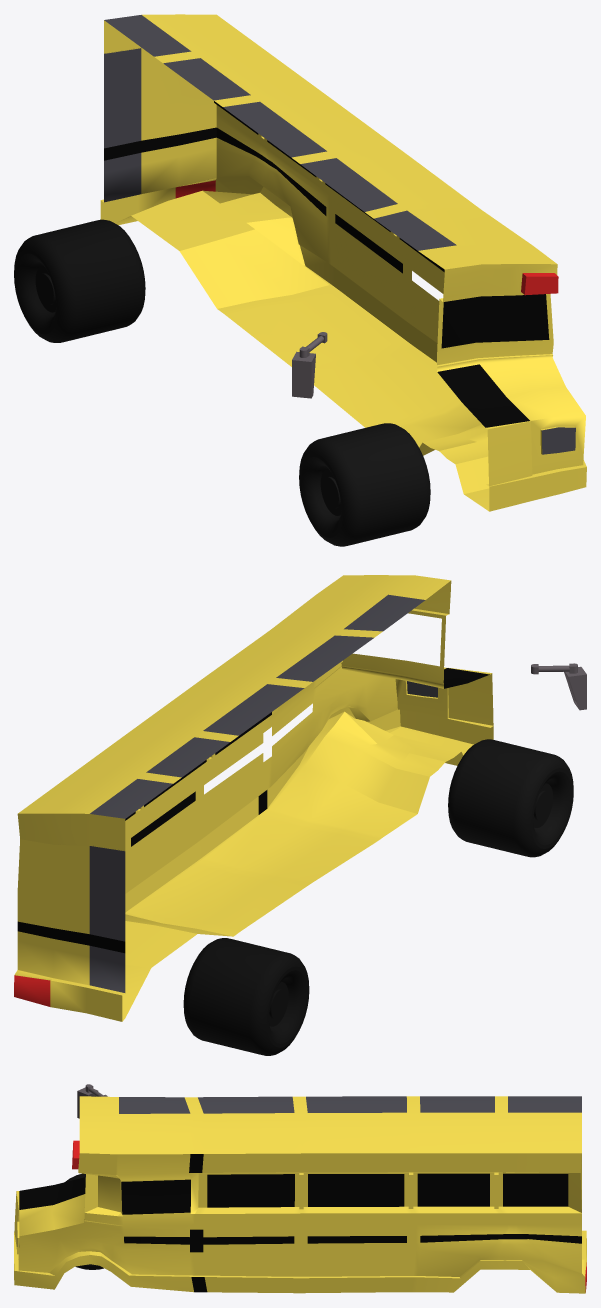
Rendered from BUS.gltf.
3 views of the same model, one above another, from view 1: azimuth 30°, elevation 25°; view 2: azimuth 150°, elevation 25°; view 3: azimuth 270°, elevation 25° (orthographic). The views are drawn at different scales.
Visible parts, largest first — view 1: Cube, front tires, back tires, Mirror_001; view 2: Cube, front tires, back tires, Mirror_001; view 3: Cube, Mirror_001.
Boxes of the visible parts, x1,y1,x2,y2 form: Cube: (100,14,586,511); front tires: (299,423,430,546); back tires: (14,219,145,342); Mirror_001: (292,332,327,398); Cube: (14,575,493,1021); front tires: (448,739,573,857); back tires: (183,938,309,1055); Mirror_001: (531,663,586,710); Cube: (14,1096,586,1293); Mirror_001: (77,1084,107,1118).
Size of the model in its own units: 2.23 by 2 by 5.52.
